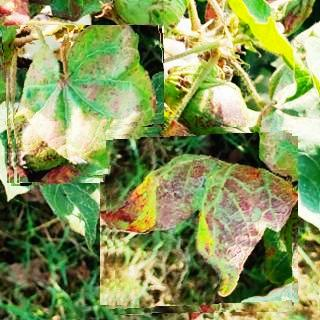leaf spot: (105, 127, 292, 314), (4, 25, 164, 184)
